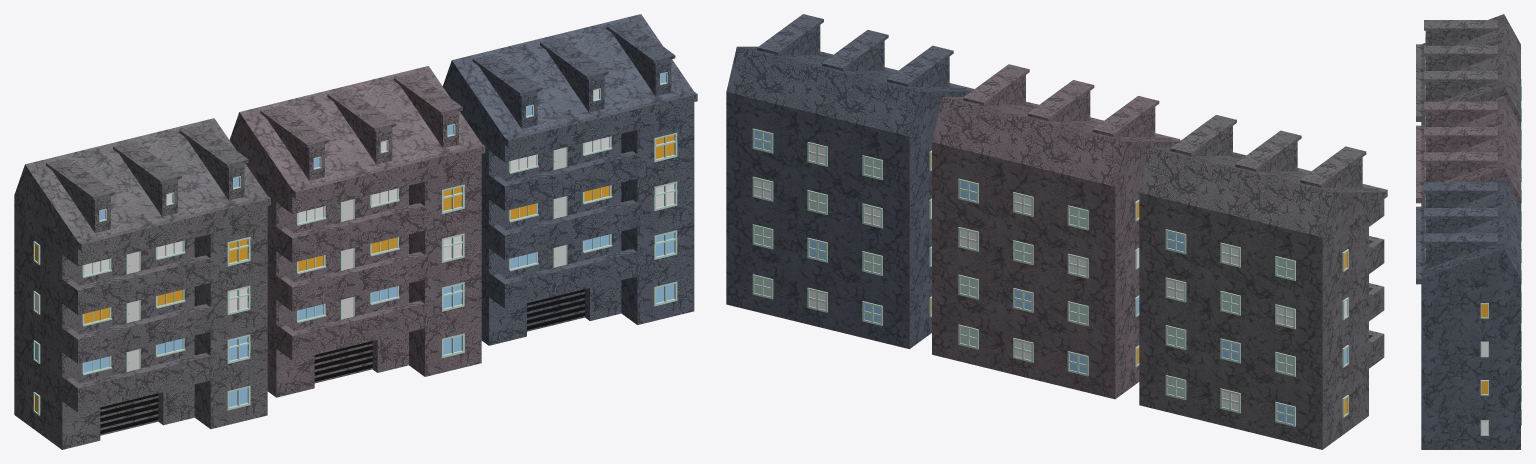
Rendered from House3.fbx.
3 views of the same model, side by side, from view 1: azimuth 30°, elevation 25°; view 2: azimuth 150°, elevation 25°; view 3: azimuth 270°, elevation 25° (orthographic). The views are drawn at different scales.
Parts seen in each view (by area): view 1: pCube105, pCube103, pCube104; view 2: pCube105, pCube103, pCube104; view 3: pCube104, pCube105, pCube103.
Boxes of the visible parts, x1=… form: pCube105: x1=14, y1=118, x2=270, y2=449; pCube103: x1=229, y1=66, x2=485, y2=397; pCube104: x1=442, y1=14, x2=697, y2=345; pCube105: x1=1139, y1=115, x2=1387, y2=449; pCube103: x1=932, y1=64, x2=1180, y2=399; pCube104: x1=726, y1=14, x2=974, y2=348; pCube104: x1=1416, y1=176, x2=1521, y2=449; pCube105: x1=1416, y1=14, x2=1521, y2=160; pCube103: x1=1416, y1=95, x2=1521, y2=241.
Bounding box in the file's own units: 4488 × 1794 × 853.
